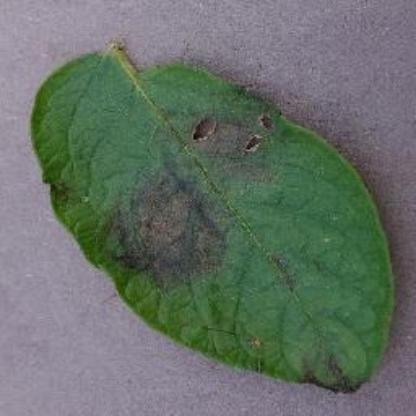Late-Blight: (18, 25, 410, 416)
